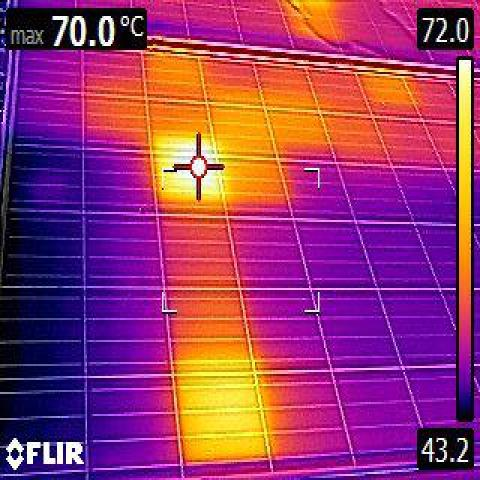fault: (178, 367, 263, 463), (158, 144, 219, 199)
